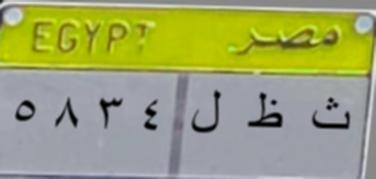3: (94, 92, 128, 133)
4: (138, 94, 162, 139)
5: (9, 98, 40, 132)
8: (49, 91, 84, 138)
Thaa: (244, 87, 284, 138)
laam: (186, 82, 224, 138)
thaa: (310, 94, 354, 138)
